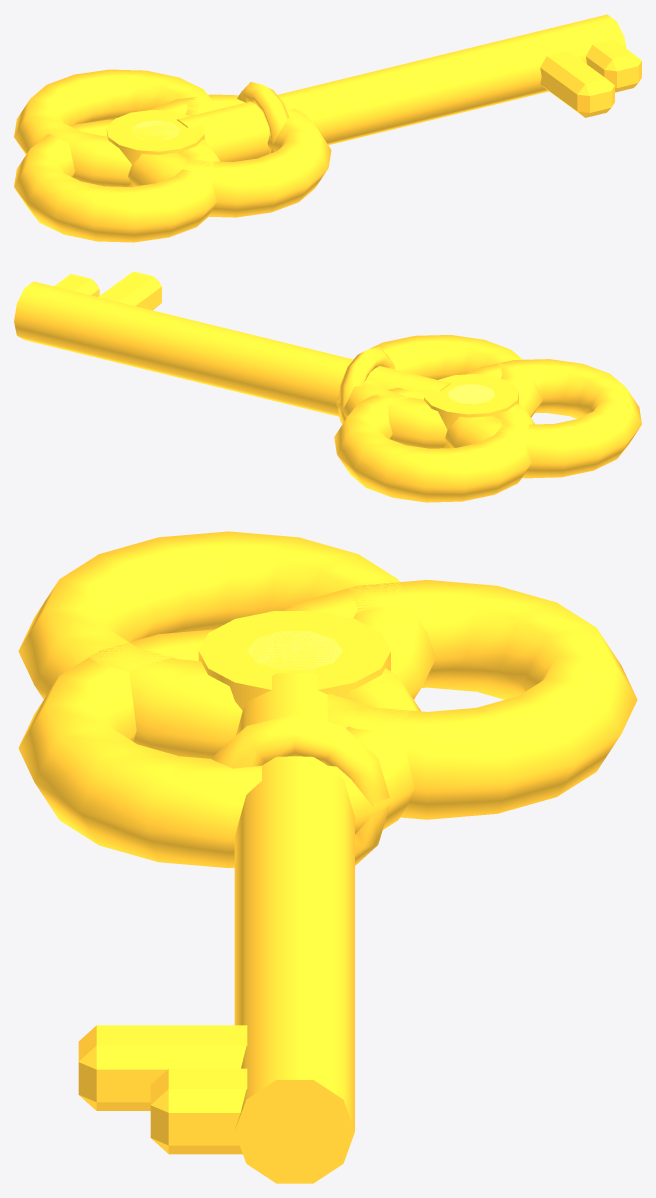
File: chave.glb
3 renders of one model, top to bottom at view 1: azimuth 30°, elevation 25°; view 2: azimuth 150°, elevation 25°; view 3: azimuth 270°, elevation 25°, orthographic. The views are drawn at different scales.
Visible parts, largest first — view 1: chave; view 2: chave; view 3: chave.
Boxes of the visible parts, <box> form: chave: <box>14,14,641,242</box>; chave: <box>14,271,641,502</box>; chave: <box>18,531,637,1183</box>.
Size of the model in its own units: 0.2241 by 0.032 by 0.103.
